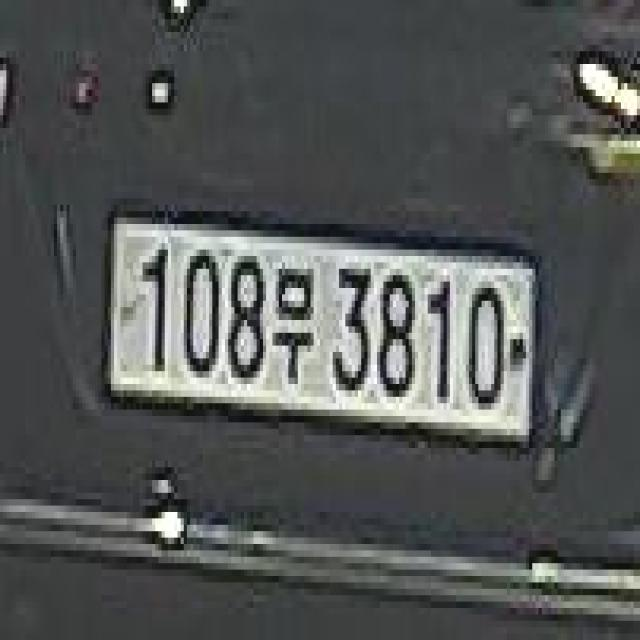illegal_plate: (105, 202, 537, 462)
